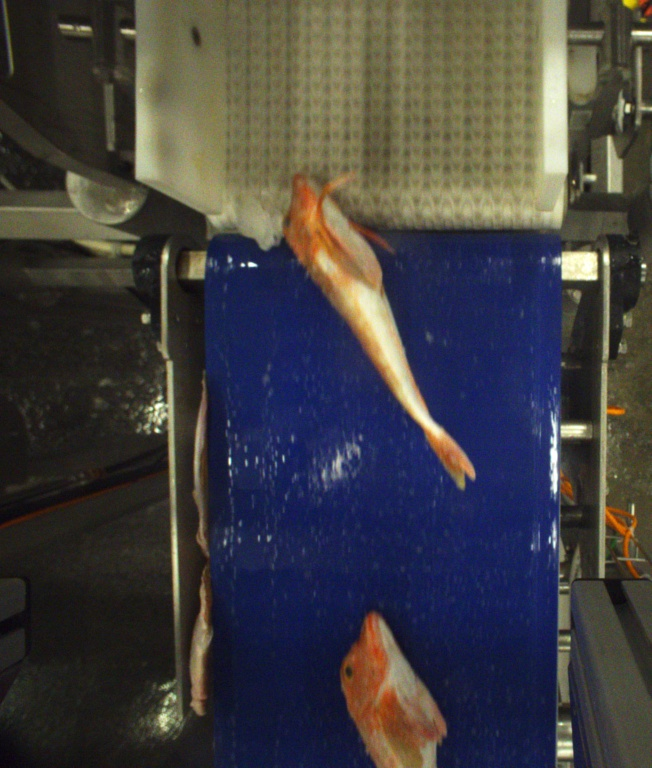GUU: (282, 171, 483, 484)
